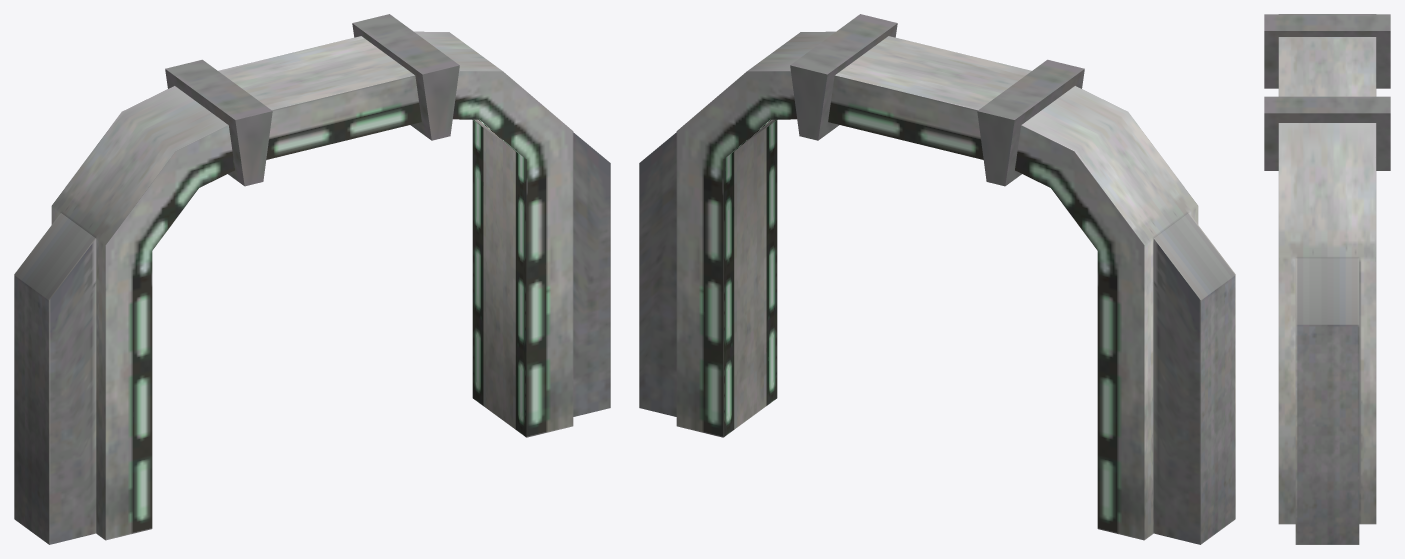
File: thm_corl_imprv_arch_lg_s01_l2.fbx
3 views of the same model, side by side, from view 1: azimuth 30°, elevation 25°; view 2: azimuth 150°, elevation 25°; view 3: azimuth 270°, elevation 25° (orthographic). The views are drawn at different scales.
Visible parts, largest first — view 1: mesh_node; view 2: mesh_node; view 3: mesh_node.
Part boxes in pixels (x1=…): mesh_node: x1=14, y1=14, x2=610, y2=544; mesh_node: x1=639, y1=14, x2=1235, y2=544; mesh_node: x1=1264, y1=14, x2=1390, y2=544.
Size of the model in its own units: 12 by 8.1 by 2.6.
1 material, 1 textured.
